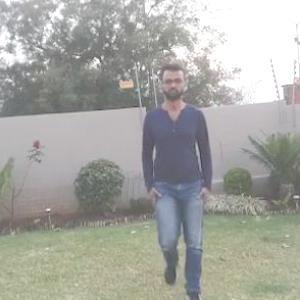follow: (150, 75, 208, 289)
